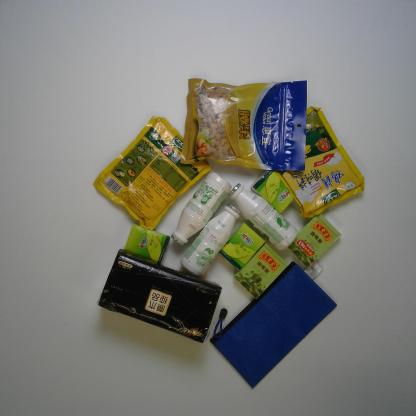Candy: (285, 212, 342, 270), (234, 242, 290, 300)
Dried Fruit: (180, 76, 310, 172)
Milk: (227, 182, 298, 252), (170, 171, 233, 246), (180, 202, 242, 278)
Seasoner: (90, 117, 211, 232), (275, 104, 366, 218)
Stationery: (209, 260, 338, 389)
Tissue: (97, 248, 223, 344), (217, 221, 267, 273), (250, 168, 296, 215), (123, 223, 171, 265)
